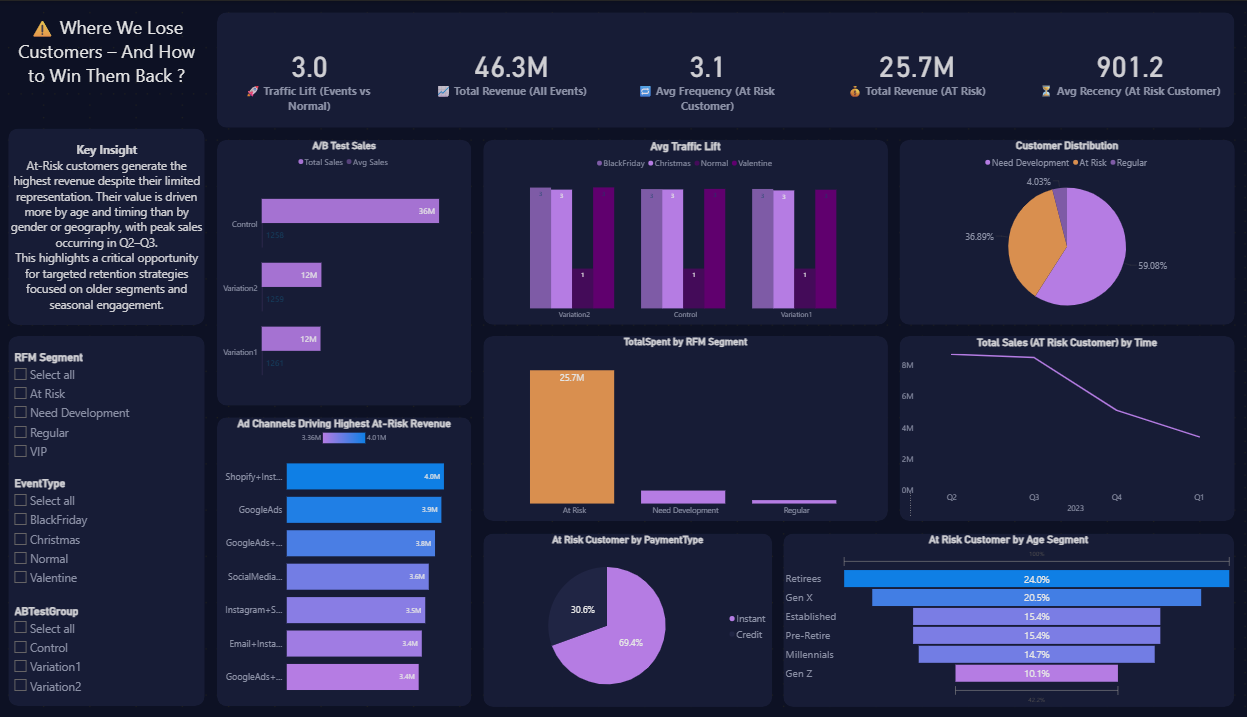

The dashboard page shown, as its layout file describes it:
{"tool":"powerbi","page":{"name":"DashBoard","canvas":[2600,1500],"ordinal":4},"visuals":[{"type":"shape","box":[24,264,408,408],"z":0},{"type":"shape","box":[24,696,408,768],"z":1000},{"type":"shape","box":[456,864,528,600],"z":2000},{"type":"shape","box":[1008,1104,600,360],"z":3000},{"type":"shape","box":[1632,1104,936,360],"z":4000},{"type":"shape","box":[1872,696,696,384],"z":5000},{"type":"shape","box":[1008,696,840,384],"z":6000},{"type":"shape","box":[1872,288,696,384],"z":7000},{"type":"shape","box":[456,288,528,552],"z":8000},{"type":"shape","box":[456,24,2112,240],"z":9000},{"type":"card","fields":{"Values":["Measure Table (2).TrafficEventToNormal"]},"box":[456,24,384,240],"z":10000},{"type":"card","fields":{"Values":["Measure Table.Total Sales (Events)"]},"box":[864,24,408,240],"z":11000},{"type":"card","fields":{"Values":["Measure Table.Avg Frequency (At Risk Customer)"]},"box":[1272,24,408,240],"z":12000},{"type":"card","fields":{"Values":["Measure Table.Avg Recency (At Risk Customer)"]},"box":[2136,24,432,240],"z":13000},{"type":"card","fields":{"Values":["Measure Table.Sum Sales (AT Risk Customer)"]},"box":[1680,24,456,240],"z":14000},{"type":"clusteredBarChart","title":"A/B Test Sales","fields":{"Category":["transactions.ABTestGroup"],"Y":["Sum(transactions.SaleAmountEUR)","Avg(transactions.SaleAmountEUR)"]},"box":[456,288,528,552],"z":15000},{"type":"pieChart","title":"Customer Distribution","fields":{"Category":["arpand_ecommerce_dataset.RFM Category"],"Y":["CountNonNull(arpand_ecommerce_dataset.RFM Category)"]},"box":[1872,288,696,384],"z":16000},{"type":"lineClusteredColumnComboChart","title":"TotalSpent by RFM Segment","fields":{"Category":["arpand_ecommerce_dataset.RFM Category"],"Y":["Sum(arpand_ecommerce_dataset.CleanTotalSpent)"]},"box":[1008,696,840,384],"z":17000},{"type":"lineChart","title":"Total Sales (AT Risk Customer) by Time","fields":{"Y":["Measure Table.Sum Sales (AT Risk Customer)"],"Category":["Date Table.Year Hierarchy.Year","Date Table.Year Hierarchy.Quarter","Date Table.Year Hierarchy.Month","Date Table.Year Hierarchy.Day"]},"box":[1872,696,696,384],"z":18000},{"type":"funnel","title":"At Risk Customer by Age Segment","fields":{"Category":["arpand_ecommerce_dataset.Age_Segment"],"Y":["Divide(Measure Table.At Risk Customer, ScopedEval(Measure Table.At Risk Customer, []))"]},"box":[1632,1104,936,360],"z":19000},{"type":"pieChart","fields":{"Category":["arpand_ecommerce_dataset.PaymentType"],"Y":["Measure Table.At Risk Customer"]},"box":[1008,1104,600,360],"z":20000},{"type":"clusteredBarChart","title":"Ad Channels Driving Highest At-Risk Revenue","fields":{"Category":["branches.CurrentAdStrategy"],"Y":["Measure Table.Sum Sales (AT Risk Customer)"]},"box":[456,864,528,600],"z":21000},{"type":"shape","box":[1008,288,840,384],"z":22000},{"type":"clusteredColumnChart","title":"Avg Traffic Lift","fields":{"Category":["transactions.ABTestGroup"],"Y":["Avg(transactions.TrafficMultiplier)"],"Series":["transactions.EventType"]},"box":[1008,288,840,384],"z":23000},{"type":"slicer","fields":{"Values":["arpand_ecommerce_dataset.RFM Segment"]},"box":[24,720,408,264],"z":24000},{"type":"slicer","fields":{"Values":["transactions.ABTestGroup"]},"box":[24,1248,384,216],"z":25000},{"type":"slicer","fields":{"Values":["transactions.EventType"]},"box":[24,984,384,240],"z":26000},{"type":"textbox","box":[24,288,408,384],"z":27000},{"type":"textbox","box":[24,24,408,216],"z":28000}]}

Visuals, with their boxes in screenshot pixels (x1, y1, x2, y2), scaled from the page's 2600x1500 canvas onto the 1247x717 screenshot:
shape: {"x1": 12, "y1": 126, "x2": 207, "y2": 321}
shape: {"x1": 12, "y1": 333, "x2": 207, "y2": 700}
shape: {"x1": 219, "y1": 413, "x2": 472, "y2": 700}
shape: {"x1": 483, "y1": 528, "x2": 771, "y2": 700}
shape: {"x1": 783, "y1": 528, "x2": 1232, "y2": 700}
shape: {"x1": 898, "y1": 333, "x2": 1232, "y2": 516}
shape: {"x1": 483, "y1": 333, "x2": 886, "y2": 516}
shape: {"x1": 898, "y1": 138, "x2": 1232, "y2": 321}
shape: {"x1": 219, "y1": 138, "x2": 472, "y2": 402}
shape: {"x1": 219, "y1": 11, "x2": 1232, "y2": 126}
card - Measure Table (2).TrafficEventToNormal: {"x1": 219, "y1": 11, "x2": 403, "y2": 126}
card - Measure Table.Total Sales (Events): {"x1": 414, "y1": 11, "x2": 610, "y2": 126}
card - Measure Table.Avg Frequency (At Risk Customer): {"x1": 610, "y1": 11, "x2": 806, "y2": 126}
card - Measure Table.Avg Recency (At Risk Customer): {"x1": 1024, "y1": 11, "x2": 1232, "y2": 126}
card - Measure Table.Sum Sales (AT Risk Customer): {"x1": 806, "y1": 11, "x2": 1024, "y2": 126}
"A/B Test Sales" clusteredBarChart: {"x1": 219, "y1": 138, "x2": 472, "y2": 402}
"Customer Distribution" pieChart: {"x1": 898, "y1": 138, "x2": 1232, "y2": 321}
"TotalSpent by RFM Segment" lineClusteredColumnComboChart: {"x1": 483, "y1": 333, "x2": 886, "y2": 516}
"Total Sales (AT Risk Customer) by Time" lineChart: {"x1": 898, "y1": 333, "x2": 1232, "y2": 516}
"At Risk Customer by Age Segment" funnel: {"x1": 783, "y1": 528, "x2": 1232, "y2": 700}
pieChart - arpand_ecommerce_dataset.PaymentType x Measure Table.At Risk Customer: {"x1": 483, "y1": 528, "x2": 771, "y2": 700}
"Ad Channels Driving Highest At-Risk Revenue" clusteredBarChart: {"x1": 219, "y1": 413, "x2": 472, "y2": 700}
shape: {"x1": 483, "y1": 138, "x2": 886, "y2": 321}
"Avg Traffic Lift" clusteredColumnChart: {"x1": 483, "y1": 138, "x2": 886, "y2": 321}
slicer - arpand_ecommerce_dataset.RFM Segment: {"x1": 12, "y1": 344, "x2": 207, "y2": 470}
slicer - transactions.ABTestGroup: {"x1": 12, "y1": 597, "x2": 196, "y2": 700}
slicer - transactions.EventType: {"x1": 12, "y1": 470, "x2": 196, "y2": 585}
textbox: {"x1": 12, "y1": 138, "x2": 207, "y2": 321}
textbox: {"x1": 12, "y1": 11, "x2": 207, "y2": 115}
